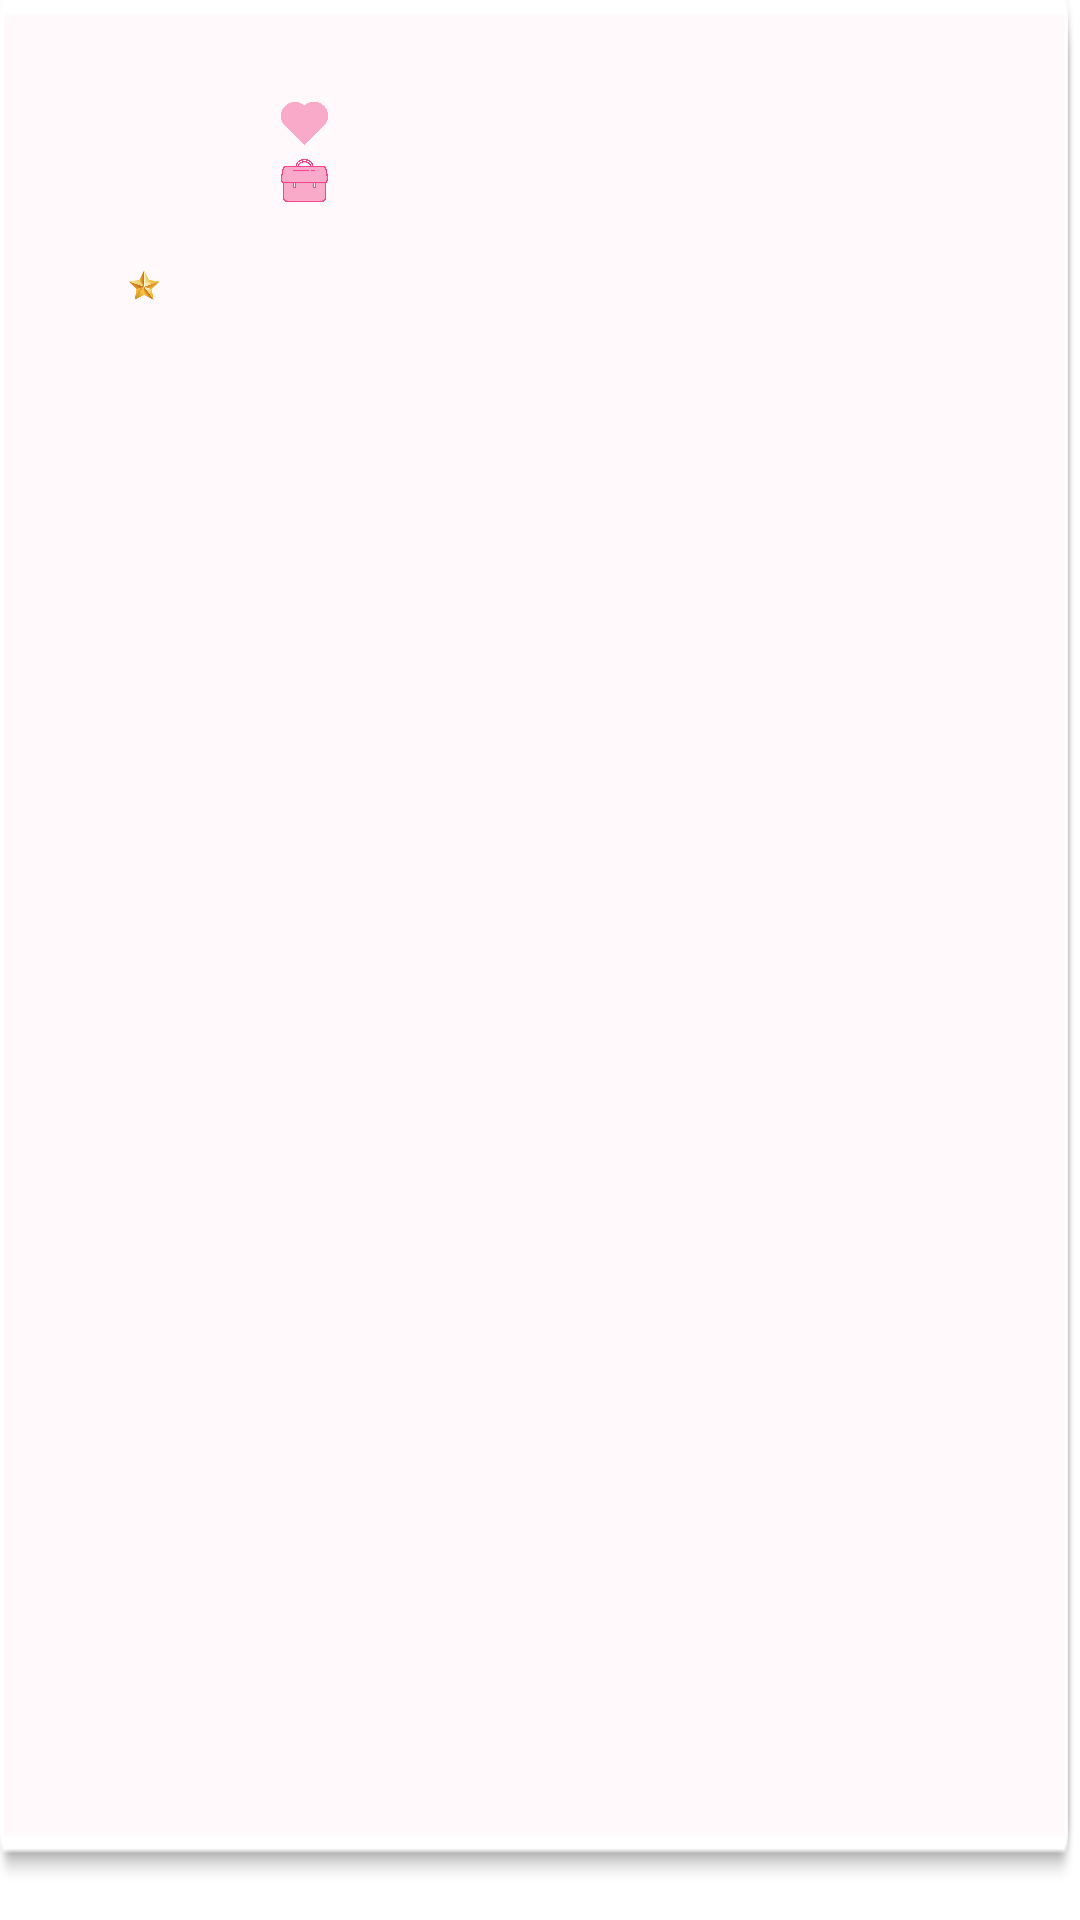

Locate icon controls on the screen. Image size 1080x1920, boxes as [x1, y1, x2, y2].
nghenghiep: [281, 159, 328, 202]
sao: [129, 271, 159, 300]
traitim: [281, 102, 328, 145]
